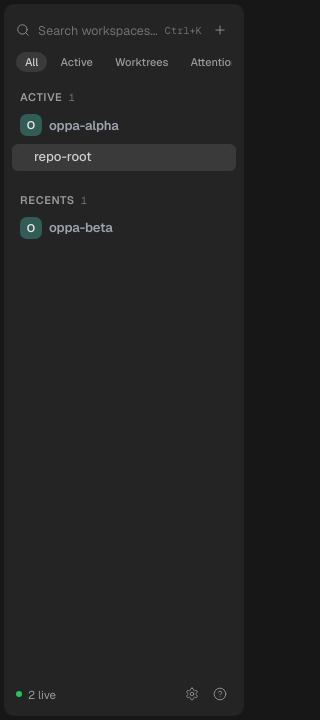
LeftSidebar › renders No Matches state when search query does not match any workspace
Type "nonexistent-query" into the field with placeholder "Search workspaces...".
click(97, 30); type("nonexistent-query")  # box x1=38 y1=22 x2=157 y2=38
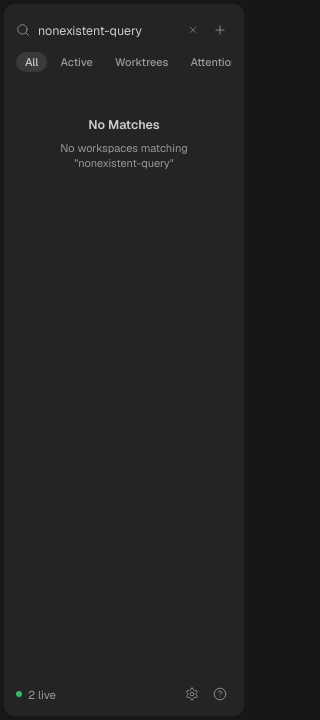
Expected: the text "No Matches" is shown, x1=88 y1=116 x2=160 y2=133
